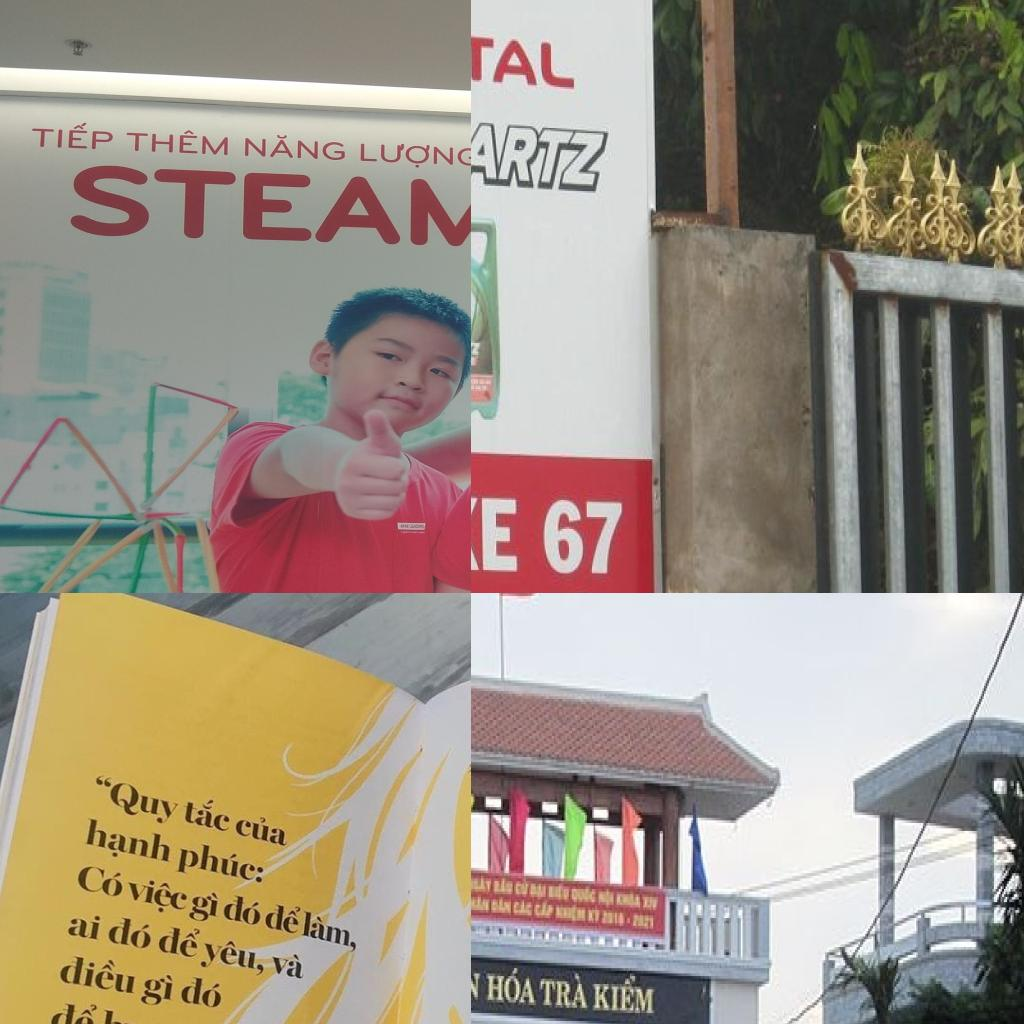text: (57, 160, 471, 254), (471, 95, 620, 209), (471, 6, 584, 107), (540, 488, 629, 584), (85, 769, 186, 830), (80, 813, 178, 872), (169, 834, 269, 890), (471, 488, 524, 582), (353, 138, 471, 174), (55, 949, 141, 998), (235, 131, 347, 166), (28, 119, 122, 156), (122, 129, 230, 161), (197, 932, 268, 980), (299, 906, 360, 957), (125, 872, 191, 917), (229, 808, 293, 852), (484, 963, 539, 1010), (537, 968, 592, 1013), (173, 798, 238, 836), (176, 971, 228, 1014), (72, 860, 126, 901), (105, 912, 157, 952), (154, 923, 204, 960), (220, 890, 266, 930), (137, 972, 180, 1011), (261, 899, 305, 937), (184, 890, 224, 926), (46, 1000, 103, 1024), (63, 912, 104, 944), (270, 952, 307, 984), (93, 1006, 150, 1024), (471, 957, 484, 1007), (471, 336, 483, 360), (409, 524, 425, 529), (400, 524, 410, 528)
